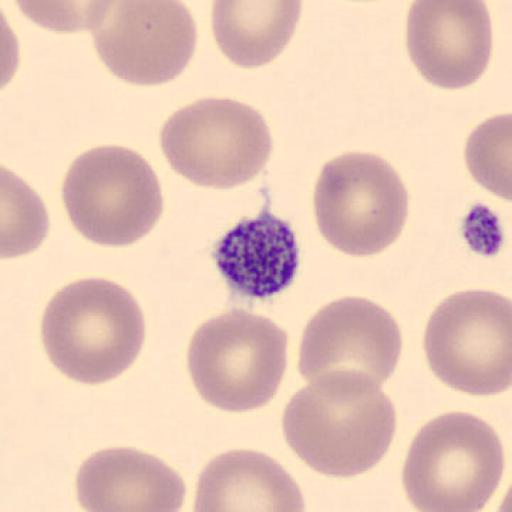Platelet: (208, 209, 304, 303)
RBC: (280, 366, 398, 480), (38, 275, 147, 387), (157, 94, 274, 192), (60, 142, 166, 250), (185, 306, 290, 415), (296, 293, 404, 395), (400, 409, 506, 512), (310, 150, 410, 258), (421, 287, 512, 397), (89, 0, 199, 87), (403, 0, 494, 90), (74, 443, 188, 512), (192, 446, 306, 512), (210, 0, 304, 69), (2, 164, 52, 260), (463, 110, 512, 206), (10, 0, 117, 35), (0, 0, 21, 95)
